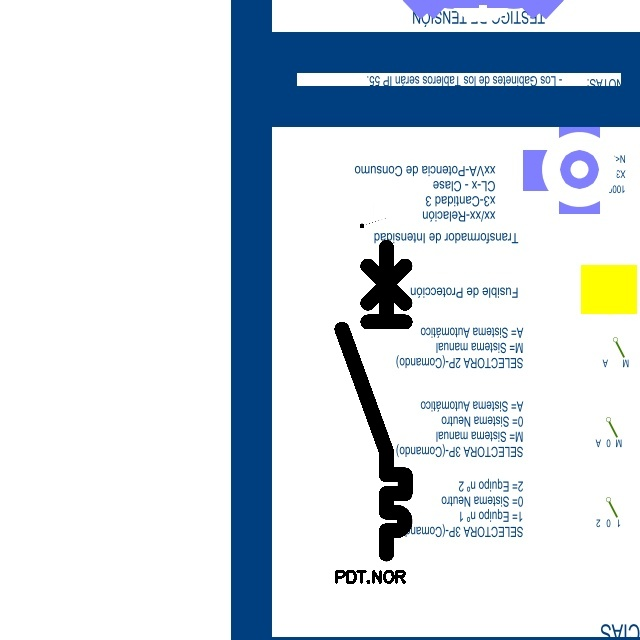interruptor_termomagnetico: (334, 239, 413, 561)
